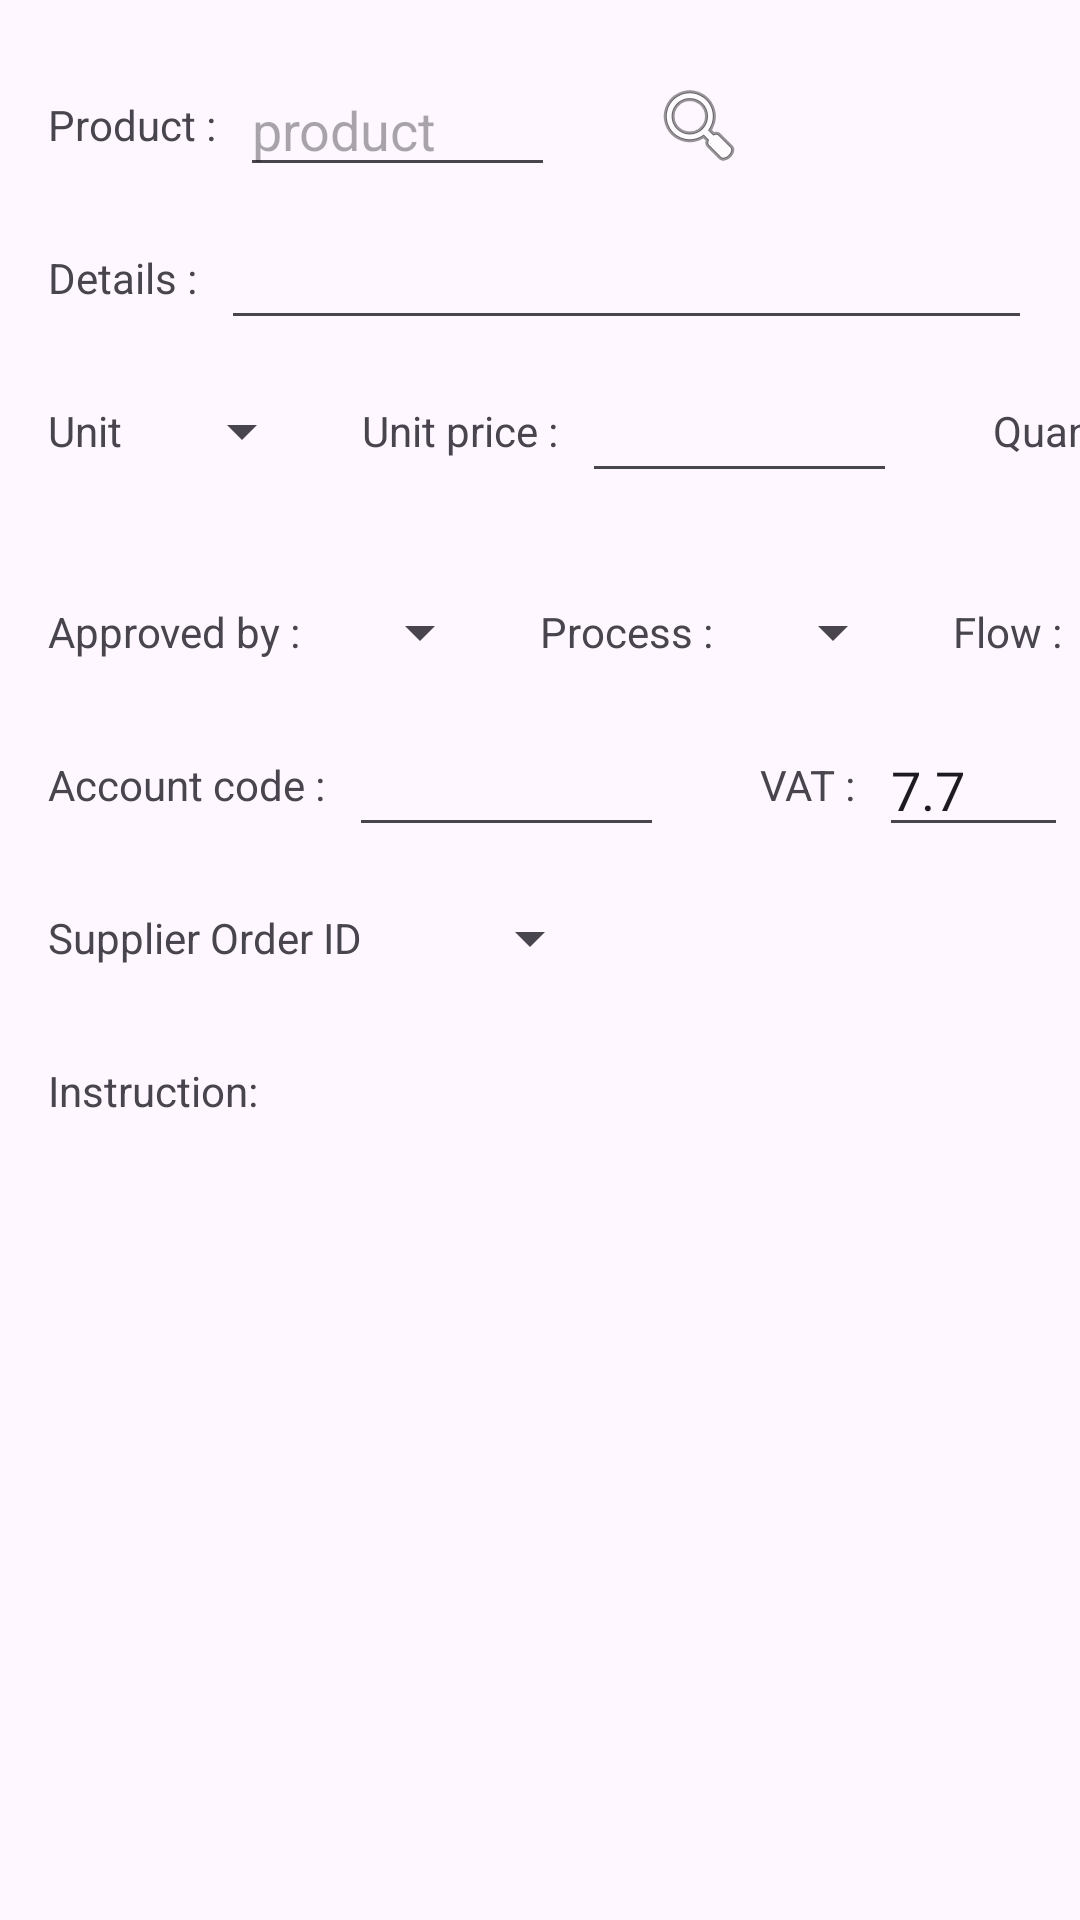

Screen size 1080*1920. Icon name, then its box in pixels as bbox(x1, y1, x2, y2):
search: bbox(663, 90, 735, 161)
